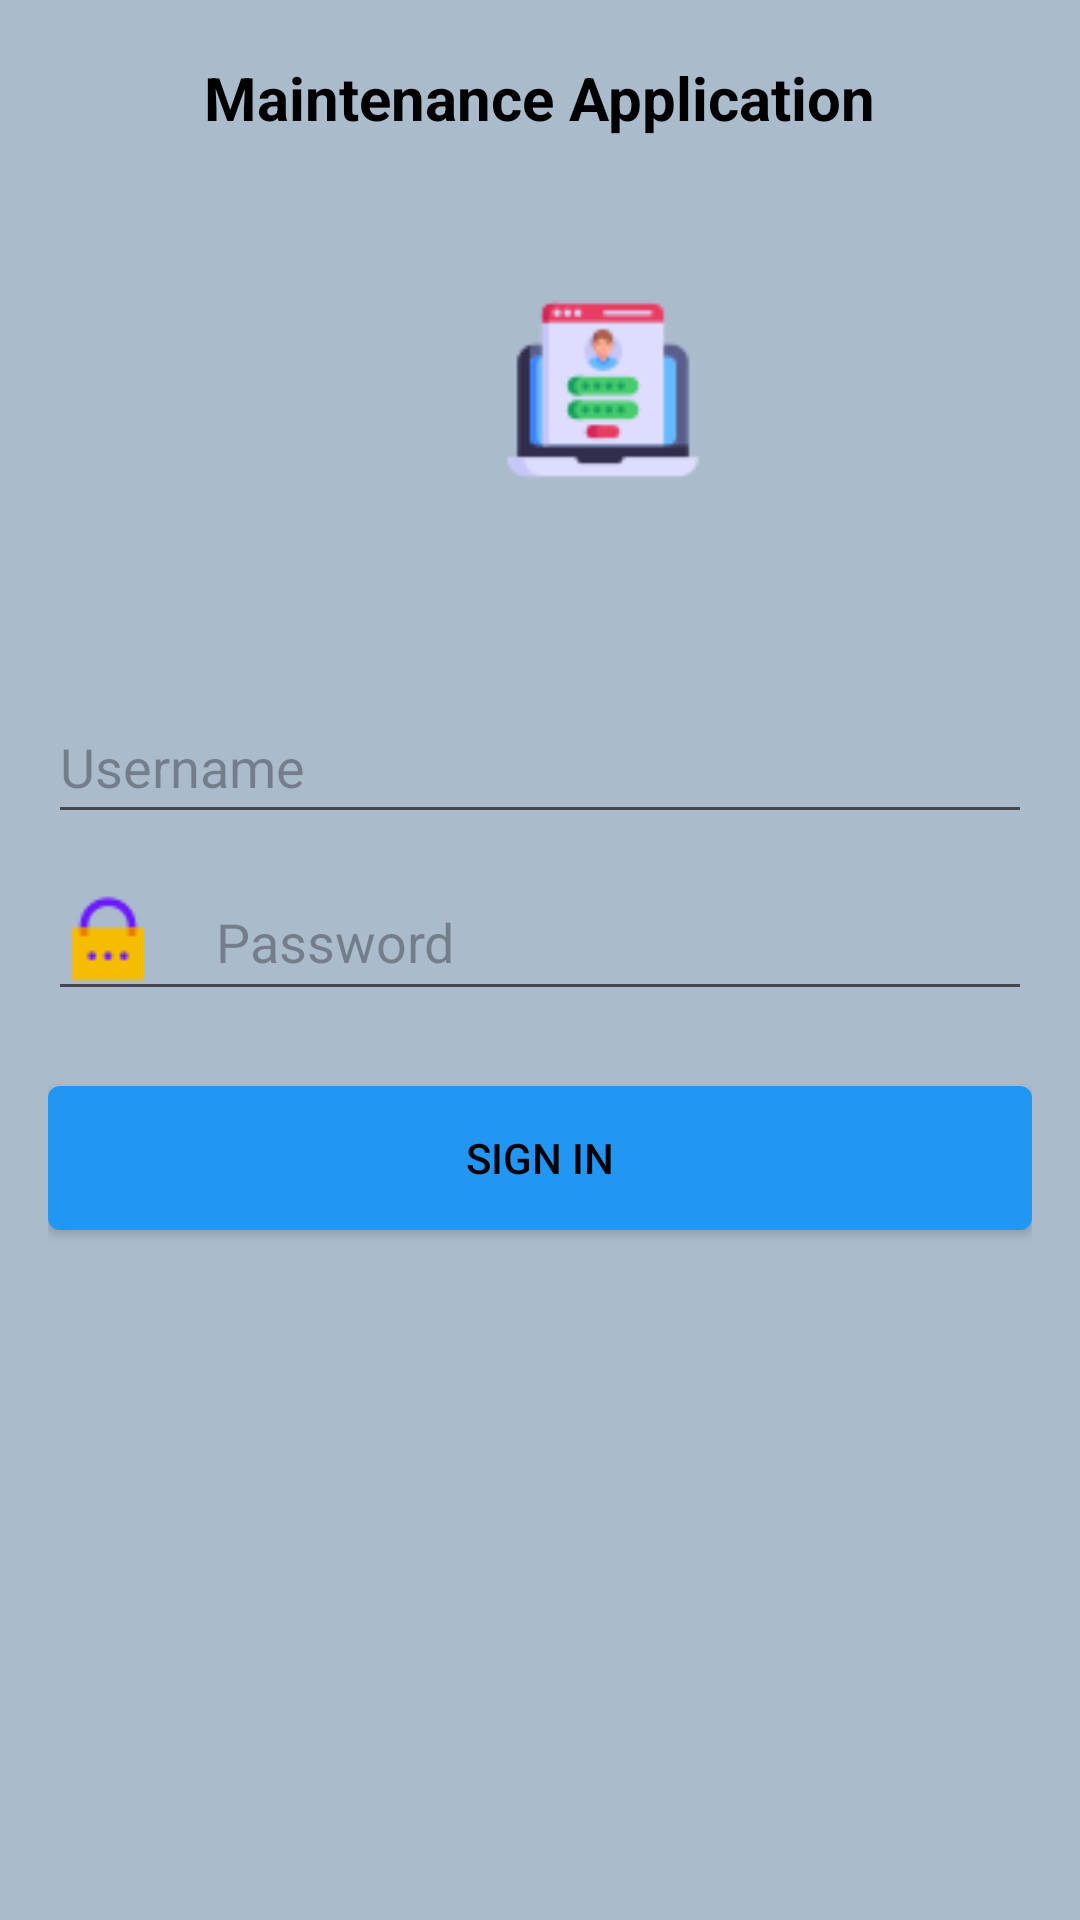

Screen size 1080 x 1920. Icon name, then its center in pixels as (x=x, y=y):
login: (x=603, y=389)
